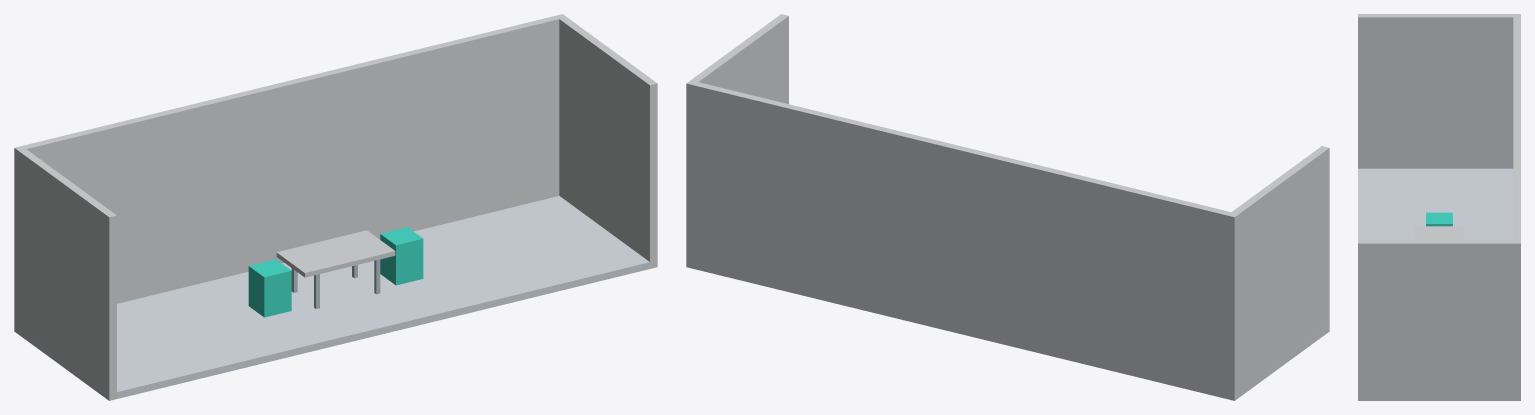
The picture shows the model from 3 angles, left to right: view 1: azimuth 30°, elevation 25°; view 2: azimuth 150°, elevation 25°; view 3: azimuth 270°, elevation 25°; orthographic projection. The views are drawn at different scales.
Parts seen in each view (by area): view 1: Exhibition Booth Concept; view 2: Exhibition Booth Concept; view 3: Exhibition Booth Concept.
Part boxes in pixels (x1,y1,x2,y2): Exhibition Booth Concept: (14,14,657,400); Exhibition Booth Concept: (686,14,1329,400); Exhibition Booth Concept: (1358,14,1520,400).
Bounding box in the file's own units: 10 × 3.2 × 3.
